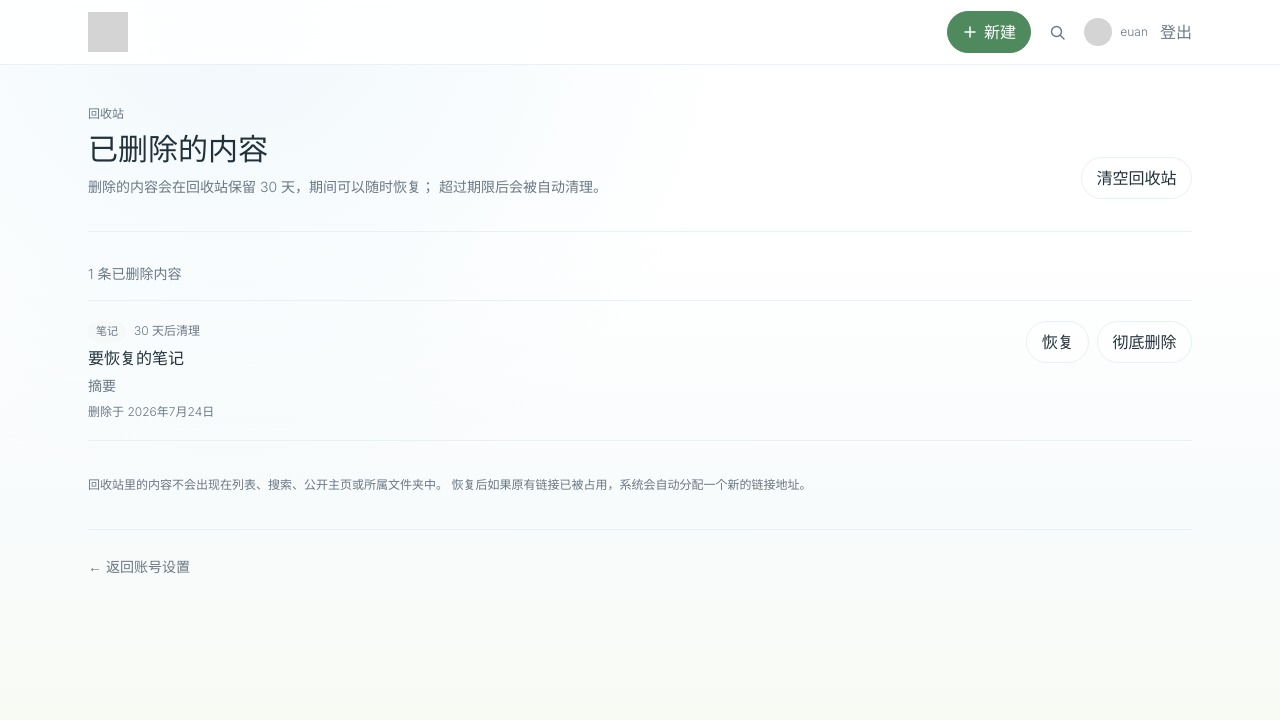
Test: trash page › restores from the page
Click the button "恢复".
click(1058, 342)  # box [1026,321,1089,363]
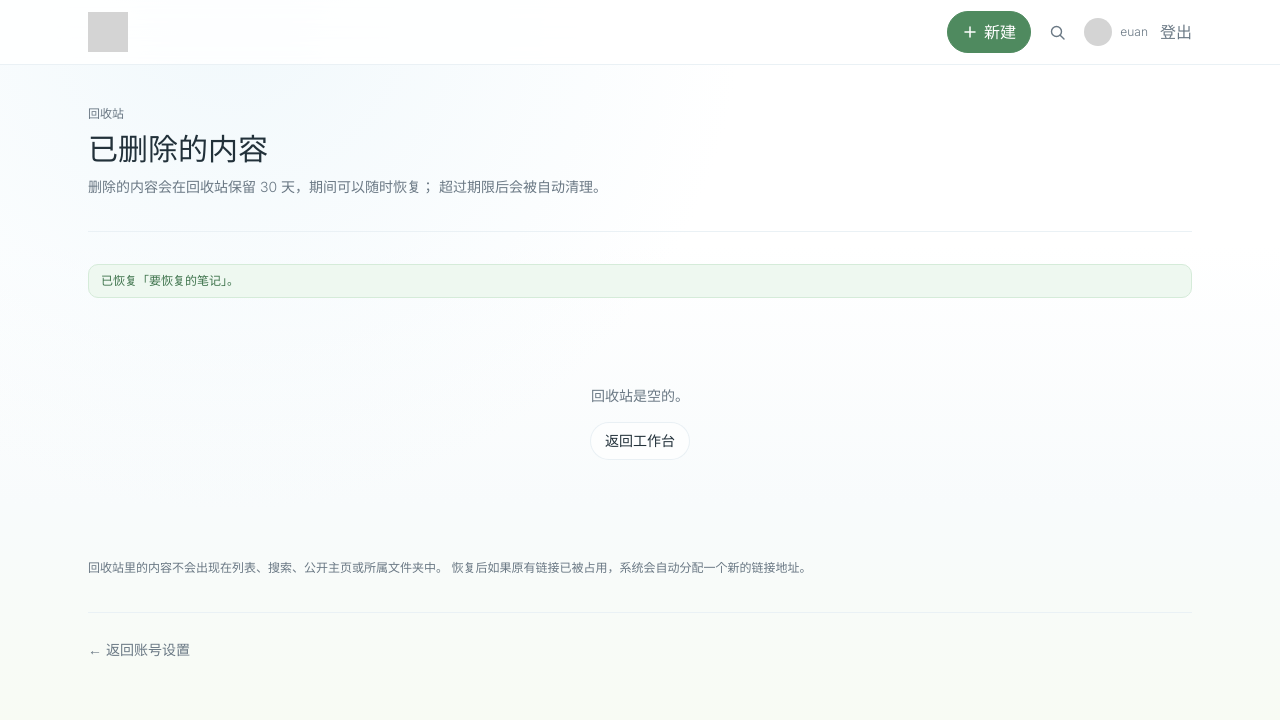
Now the text "已恢复「要恢复的笔记」。" is shown, box [88,264,1192,298]
